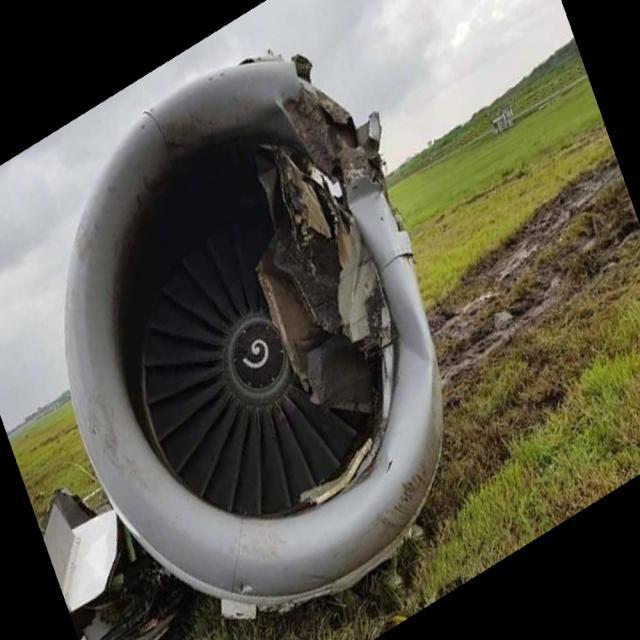dent: (382, 289, 450, 446), (346, 180, 385, 225)
